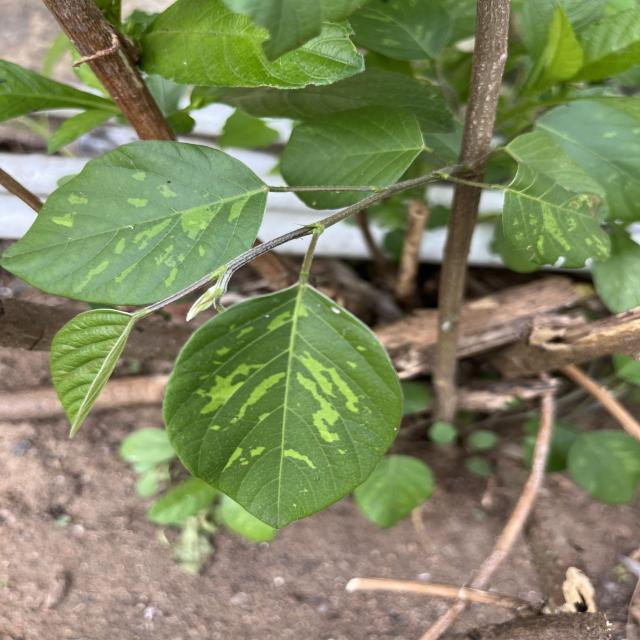Desmodium gangeticum: (156, 276, 412, 536), (0, 134, 273, 310)
